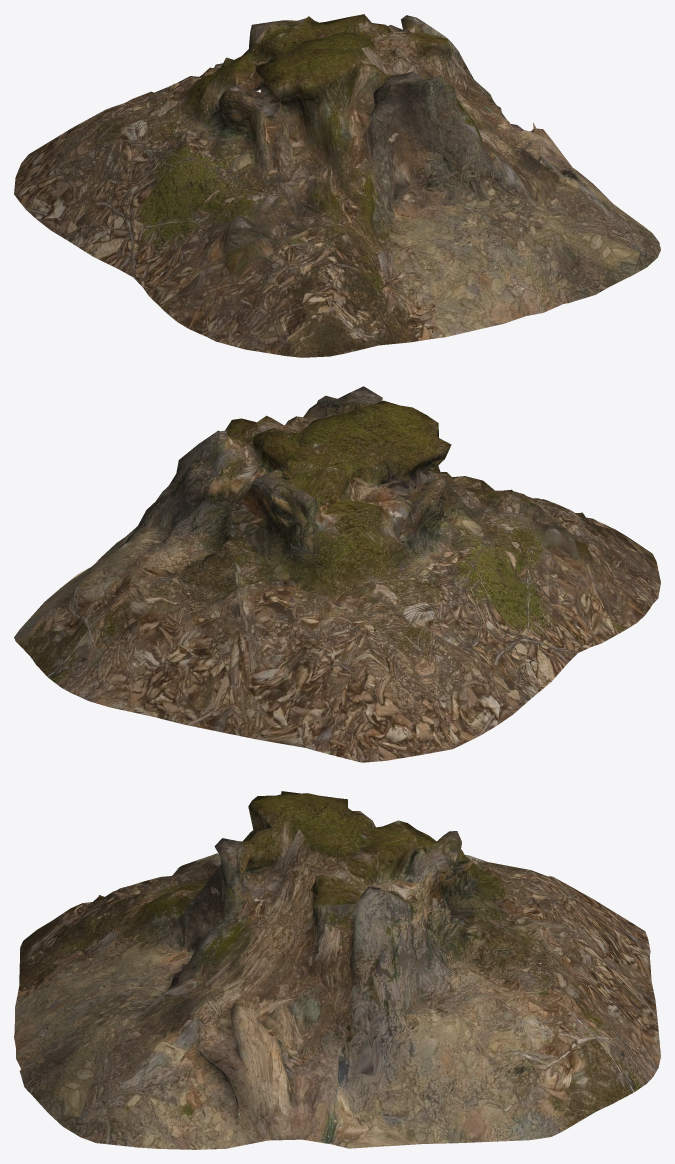
Rendered from tree_stump_01.glb.
3 renders of one model, top to bottom at view 1: azimuth 30°, elevation 25°; view 2: azimuth 150°, elevation 25°; view 3: azimuth 270°, elevation 25°, orthographic. The views are drawn at different scales.
Parts seen in each view (by area): view 1: tree_stump_01; view 2: tree_stump_01; view 3: tree_stump_01.
Boxes of the visible parts, x1,y1,x2,y2 form: tree_stump_01: [14, 14, 660, 357]; tree_stump_01: [14, 386, 660, 762]; tree_stump_01: [14, 791, 660, 1149].
Size of the model in its own units: 1.42 by 0.5732 by 1.59.
1 material, 1 textured.
